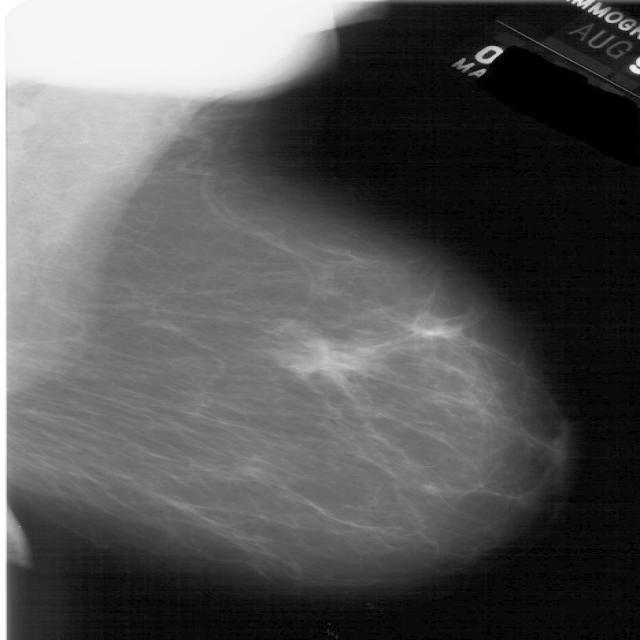tumour: (281, 338, 382, 383)
